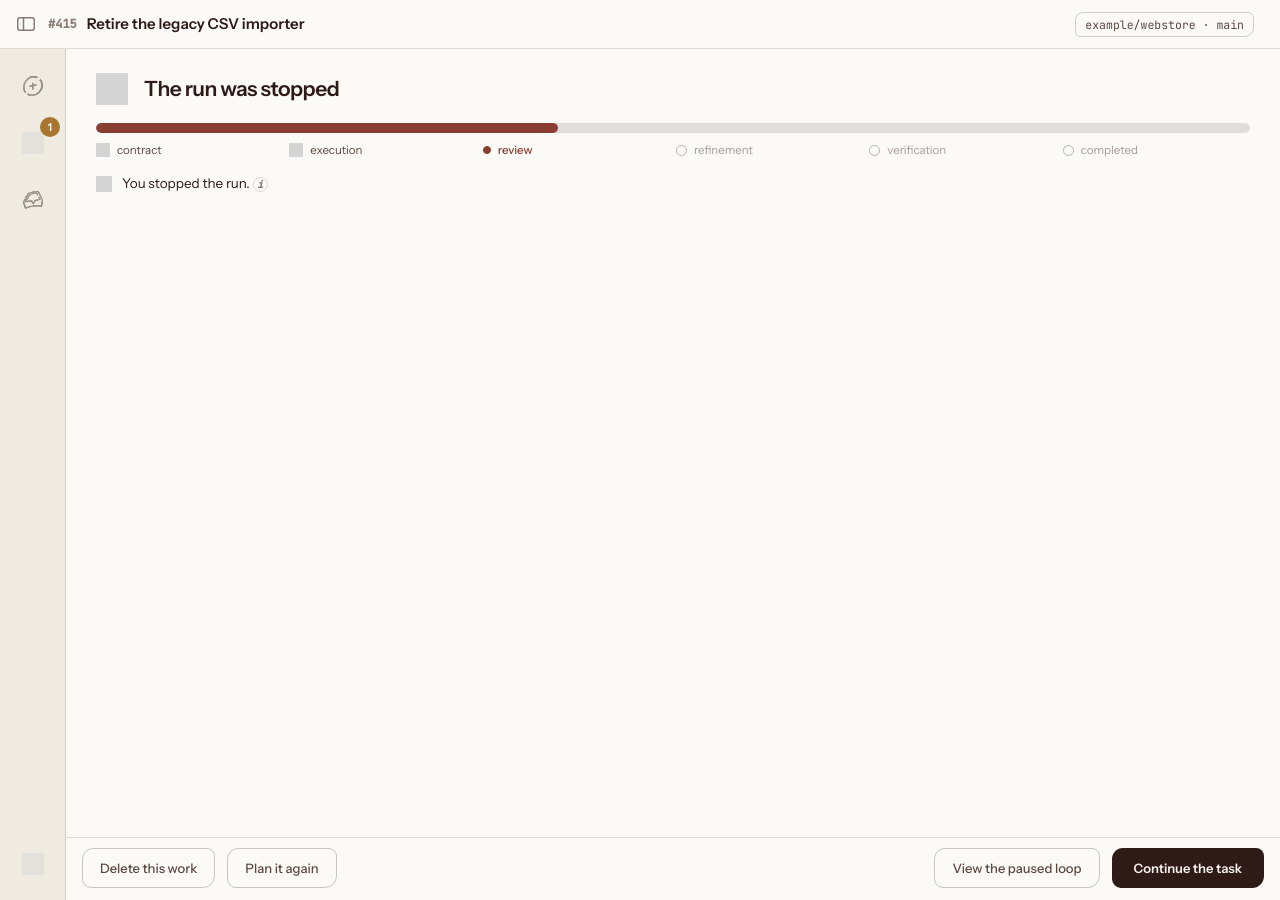
Test: UI v2 › refuses to plan again from a spec that is no longer there, in the command's own words
Expected: the heading "The run was stopped" is shown, x1=144 y1=75 x2=339 y2=103
Click the button "Plan it again" at (282, 868), box x1=227 y1=848 x2=337 y2=888
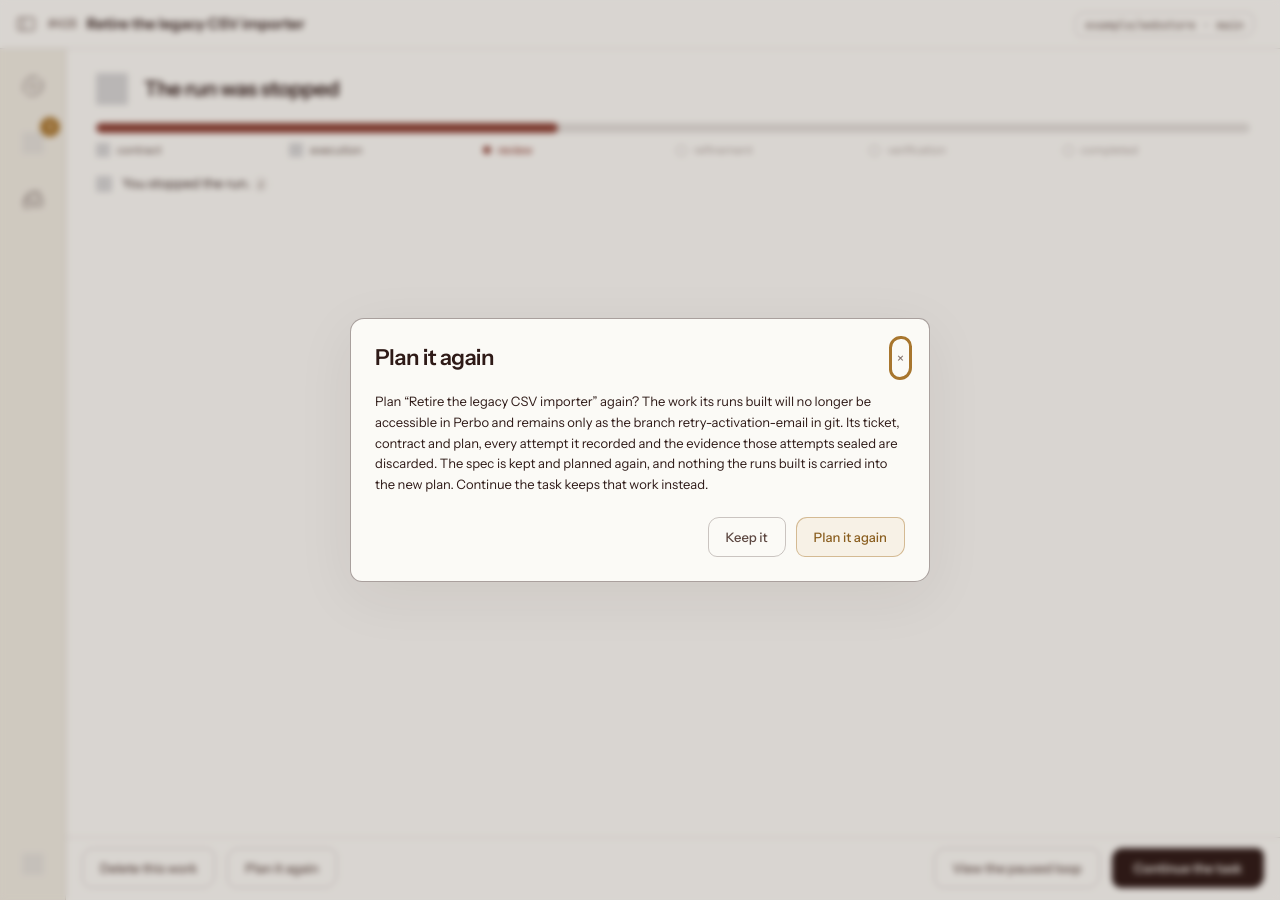
Click the button "Plan it again" at (850, 537), box x1=796 y1=517 x2=905 y2=557
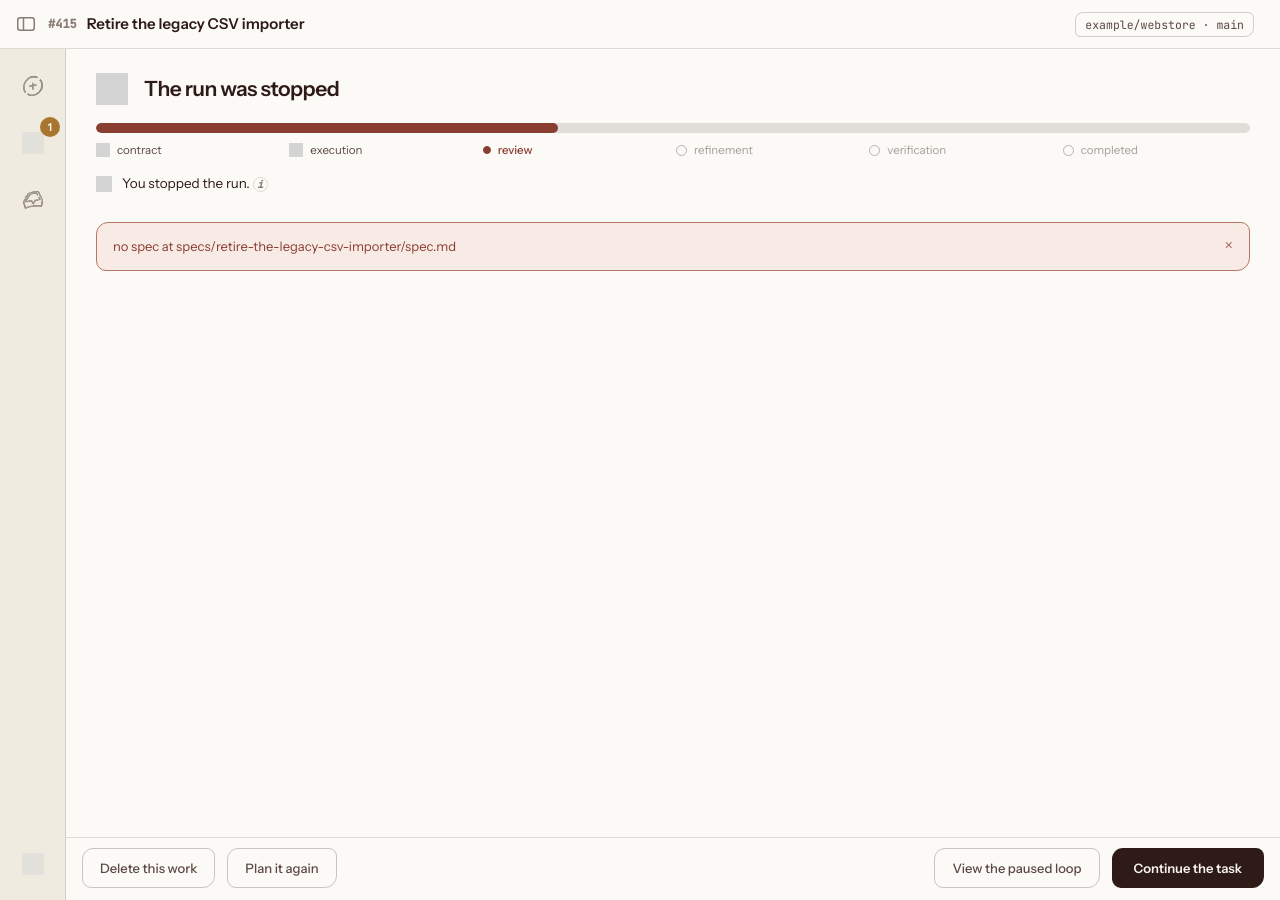
Expected: the heading "The run was stopped" is shown, x1=144 y1=75 x2=339 y2=103
Expected: the text "no spec at specs/retire-the-legacy-csv-importer/spec.md" is shown, x1=113 y1=238 x2=456 y2=254
